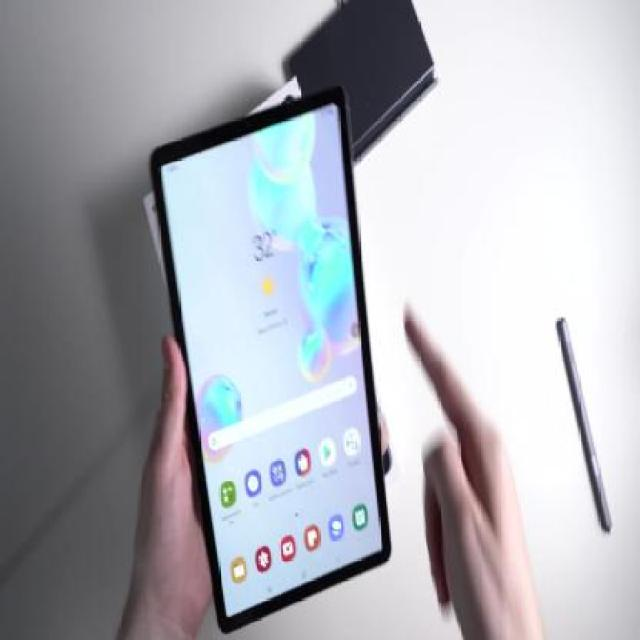smart phone: (169, 94, 397, 602)
